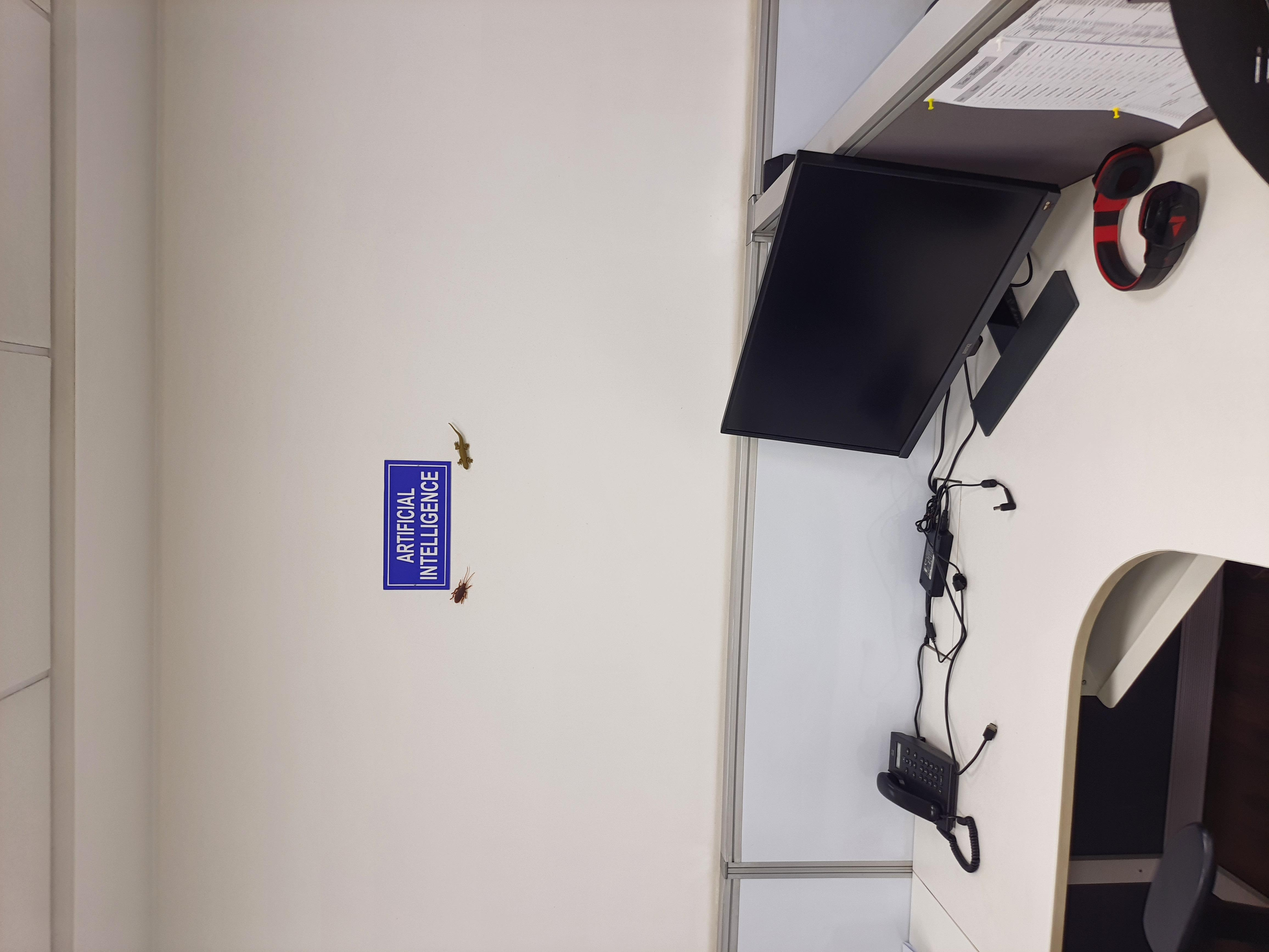cockroach: (433, 328, 513, 359)
lizard: (630, 332, 723, 364)
